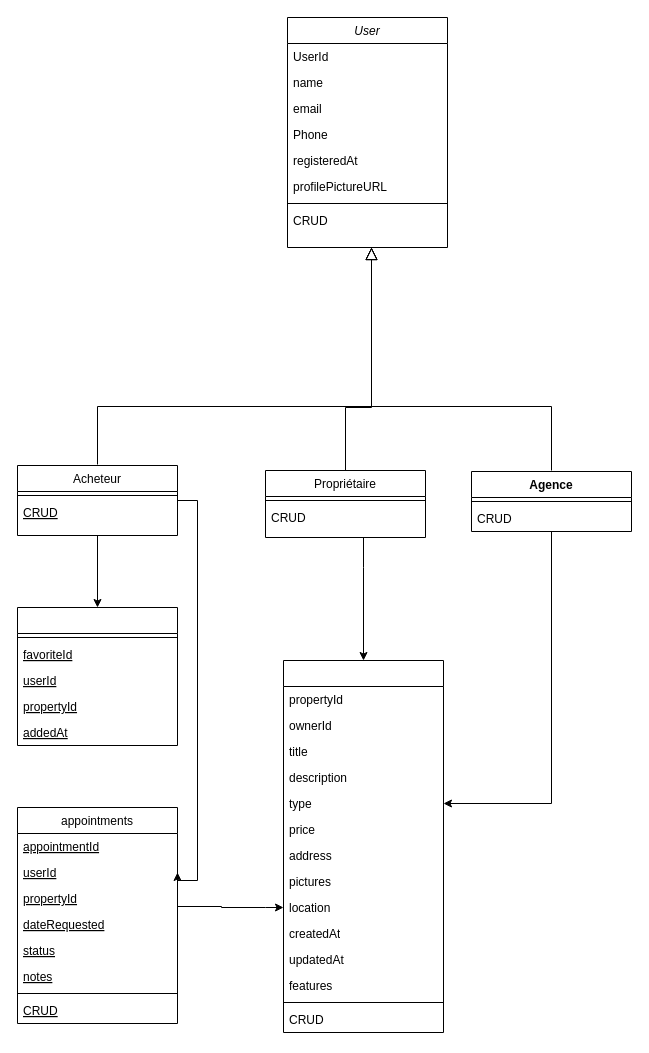
This 649x1053 diagram has some shape labels left out. The shapes that lost their labels are listed below. From the top down, each one's box as (x1, y1, x2, y2) in pixels, then its label:
(16, 606, 178, 746): Favorites
(282, 660, 444, 1032): properties
